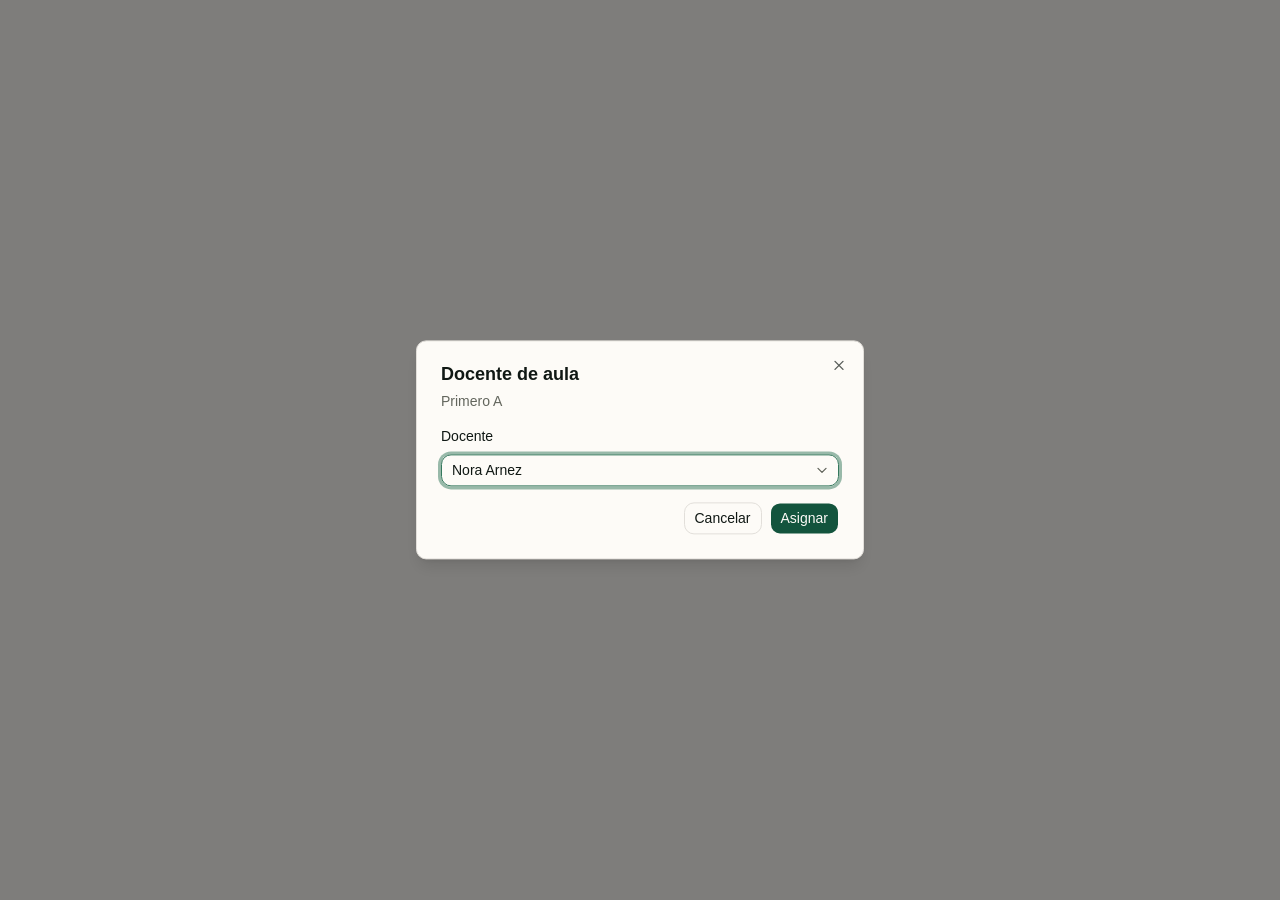
Test case: SetHomeroomDialog › propone el intercambio al elegir un docente que ya es de aula de otro curso
Click the dropdown at (487, 471), box [441, 455, 839, 487]
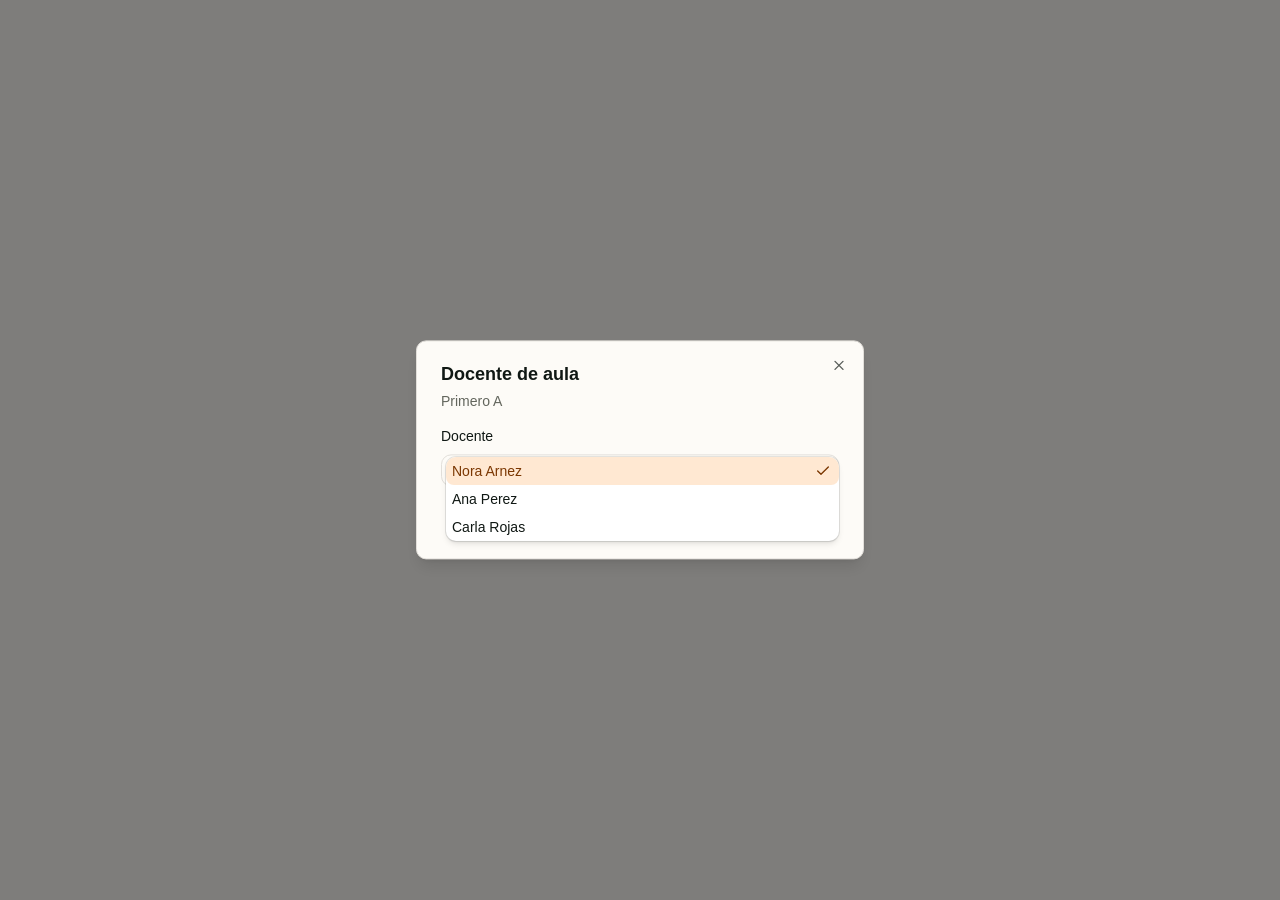
Click the option "Ana Perez" at (485, 499), box [452, 491, 517, 507]
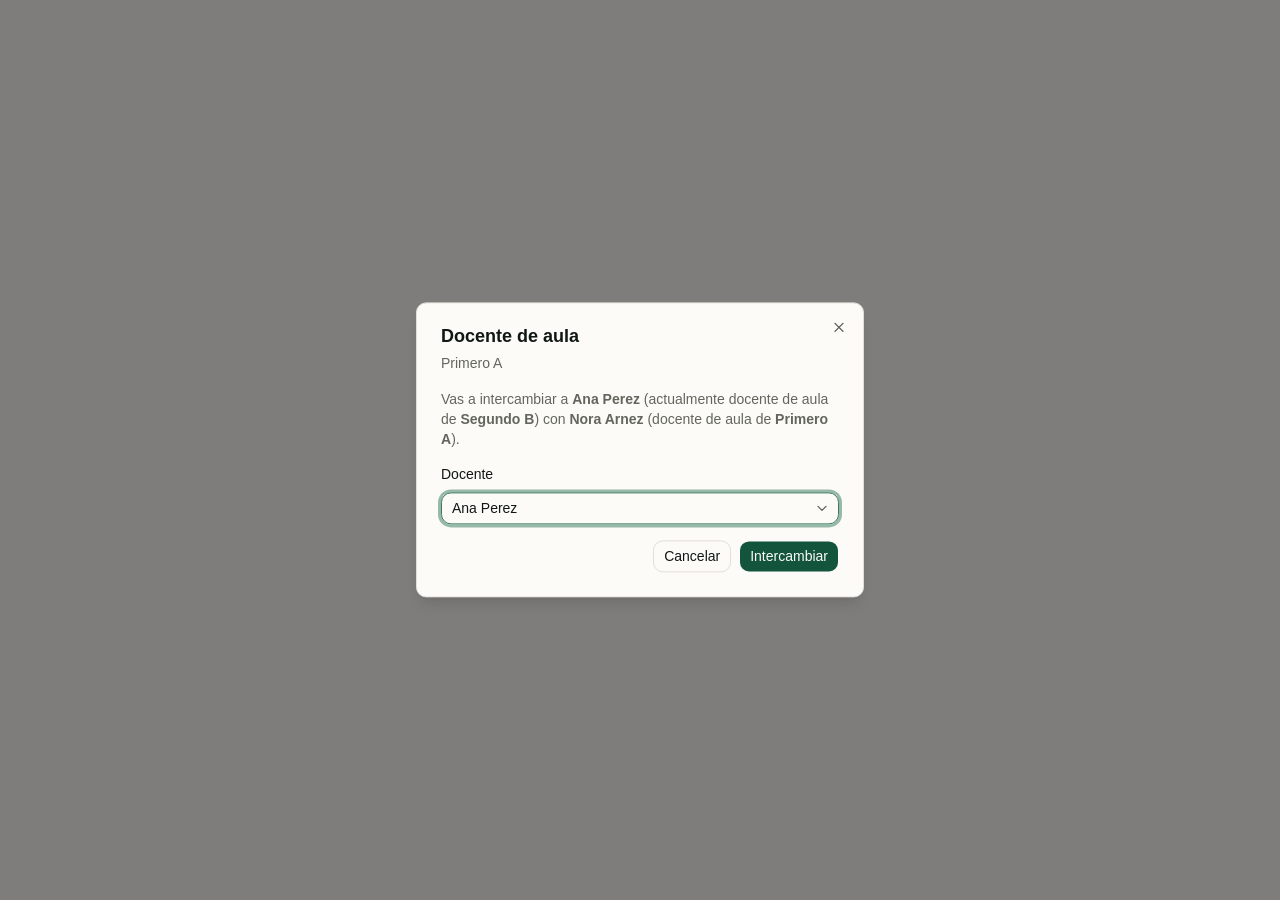
Expected: the text "Nora Arnez" is shown, [569, 411, 644, 427]
Expected: the text "Ana Perez" is shown, [572, 391, 640, 407]
Expected: the text "Segundo B" is shown, [460, 411, 534, 427]
